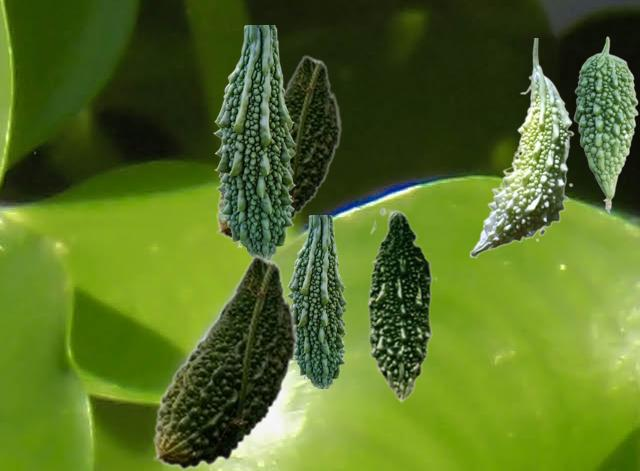ampalaya: (153, 255, 297, 469), (216, 55, 341, 241), (469, 38, 573, 257), (213, 25, 295, 258), (367, 207, 436, 402), (573, 36, 637, 212), (286, 215, 346, 387)
